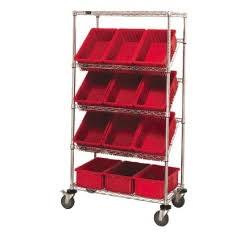Carts: (62, 9, 188, 227)
